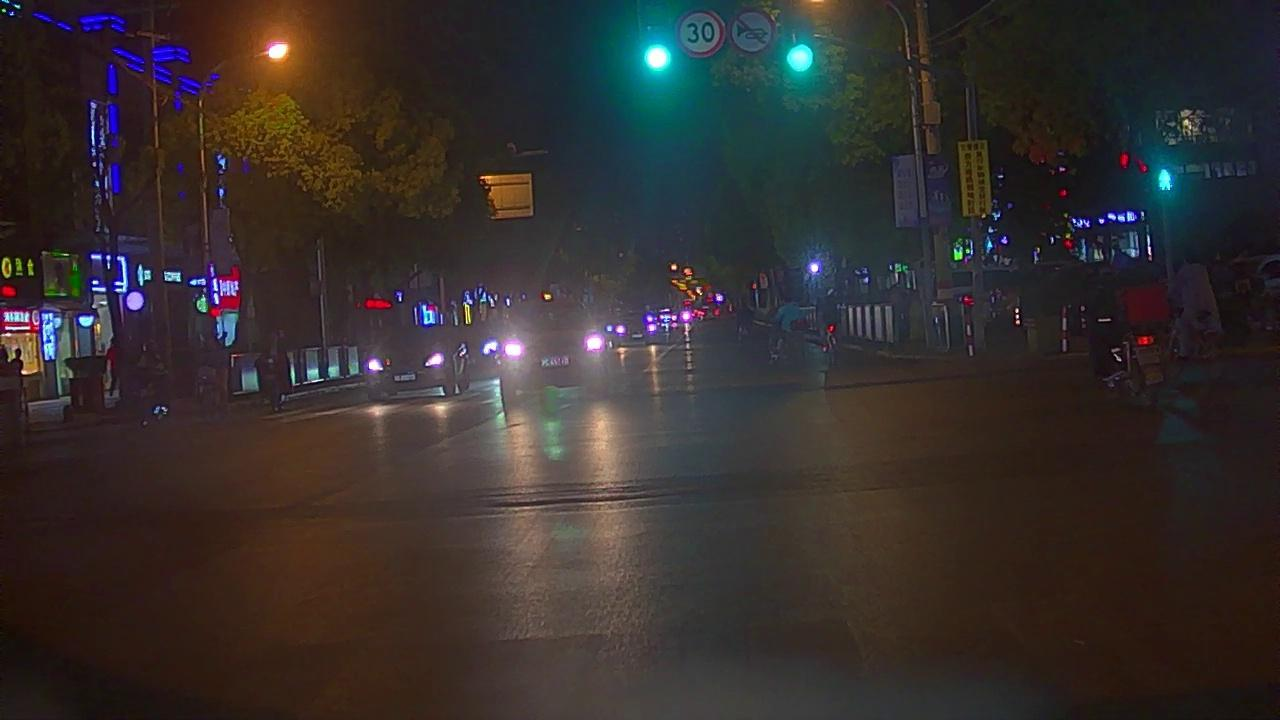traffic_light: (638, 33, 676, 76), (784, 35, 820, 80)
